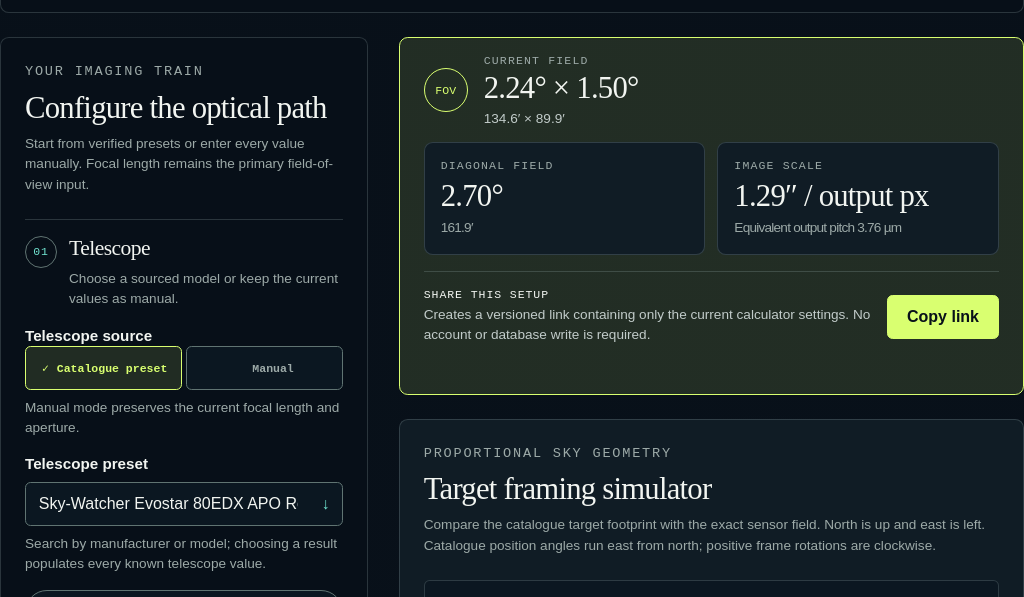
Scenario: FieldOfViewLab › provides a selectable fallback when clipboard access fails
(page scrolled)
Click the button "Copy link" at (943, 317), box [887,295,999,339]
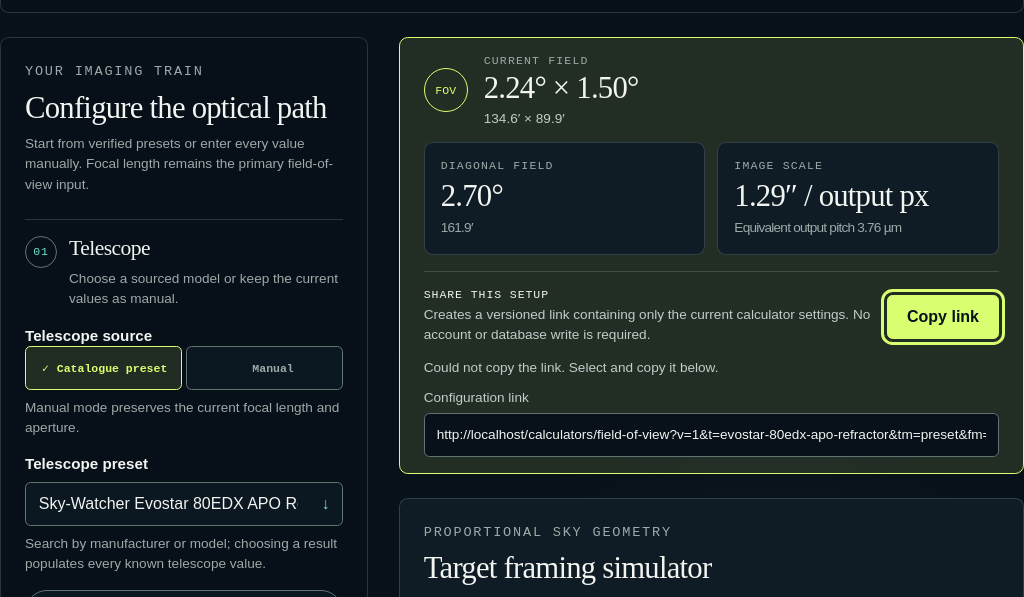
Expected: the text "Could not copy the link. Select and copy it below." is shown, [424,360,718,375]
